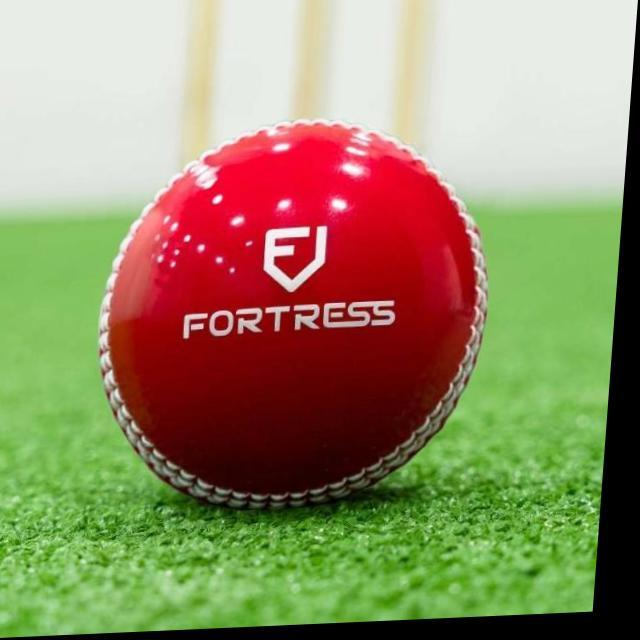cricket ball: (103, 122, 494, 514)
